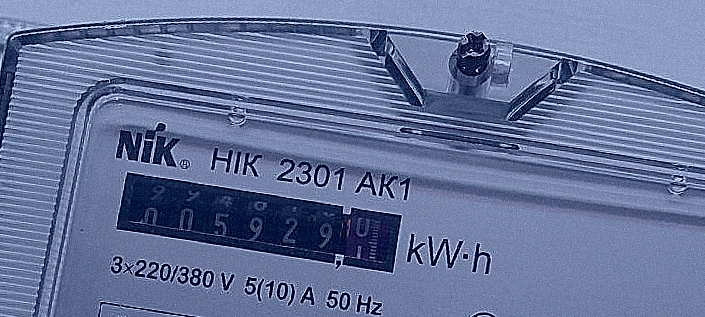0: (175, 204, 197, 234), (138, 201, 162, 226), (351, 214, 373, 239)
2: (278, 213, 301, 248)
5: (209, 208, 231, 238)
9: (313, 218, 337, 253), (242, 212, 267, 244), (147, 182, 167, 202)
screen: (107, 165, 410, 283)
